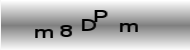8: (58, 23, 74, 39)
D: (80, 17, 97, 33)
P: (94, 8, 109, 24)
m: (118, 21, 140, 35), (33, 27, 55, 39)
